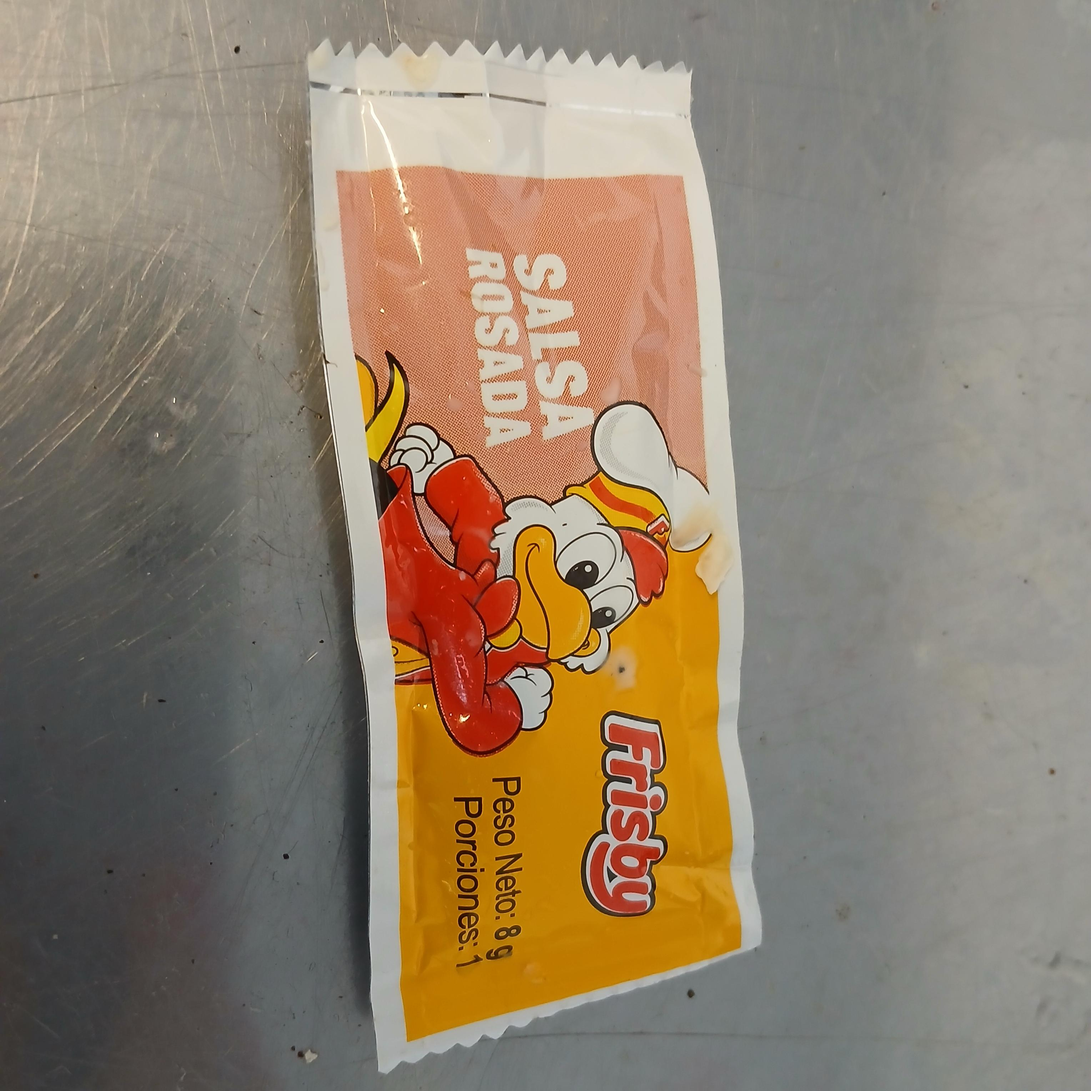Ordinario: (307, 40, 765, 1074)
